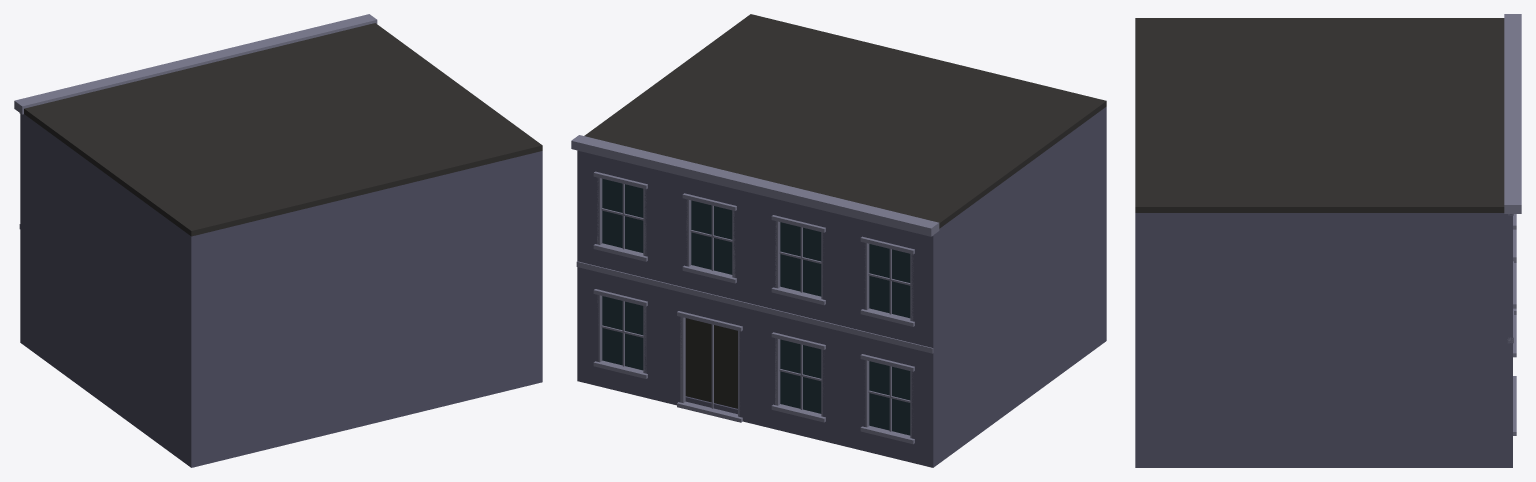
File: office_4b_2f.obj
3 views of the same model, side by side, from view 1: azimuth 30°, elevation 25°; view 2: azimuth 150°, elevation 25°; view 3: azimuth 270°, elevation 25° (orthographic). The views are drawn at different scales.
Parts seen in each view (by area): view 1: rear_1, roof_slab_93, party_wall_2, foundation_0, cornice_92, side_3, wall_pier_47, wall_pier_4; view 2: roof_slab_93, party_wall_2, cornice_92, door_29, wall_pier_4, wall_pier_47, wall_pier_15, wall_pier_35, recessed_glass_8, recessed_glass_62, recessed_glass_39, recessed_glass_19 (+32 smaller); view 3: side_3, roof_slab_93, cornice_92, foundation_0, rear_1, wall_pier_36, wall_pier_81.
Boxes of the visible parts, box(x1,y1,x2,y2) form: rear_1: box(187, 151, 542, 467); roof_slab_93: box(24, 23, 542, 236); party_wall_2: box(22, 114, 198, 467); foundation_0: box(22, 336, 542, 467); cornice_92: box(14, 14, 377, 114); side_3: box(535, 151, 542, 383); wall_pier_47: box(20, 113, 24, 229); wall_pier_4: box(20, 227, 24, 345); roof_slab_93: box(584, 14, 1106, 228); party_wall_2: box(935, 106, 1106, 463); cornice_92: box(571, 135, 939, 236); door_29: box(685, 318, 737, 408); wall_pier_4: box(911, 347, 937, 467); wall_pier_47: box(911, 232, 937, 350); wall_pier_15: box(822, 327, 844, 445); wall_pier_35: box(644, 283, 666, 402); recessed_glass_8: box(869, 361, 910, 435); recessed_glass_62: box(780, 222, 821, 296); recessed_glass_39: box(602, 296, 643, 370); recessed_glass_19: box(780, 339, 821, 413); side_3: box(1135, 213, 1507, 467); roof_slab_93: box(1135, 18, 1504, 212); cornice_92: box(1504, 14, 1521, 213); foundation_0: box(1135, 459, 1507, 467); rear_1: box(1135, 213, 1145, 467); wall_pier_36: box(1503, 340, 1512, 467); wall_pier_81: box(1503, 214, 1512, 340).
Size of the model in its own units: 10.92 by 7.04 by 9.33.
